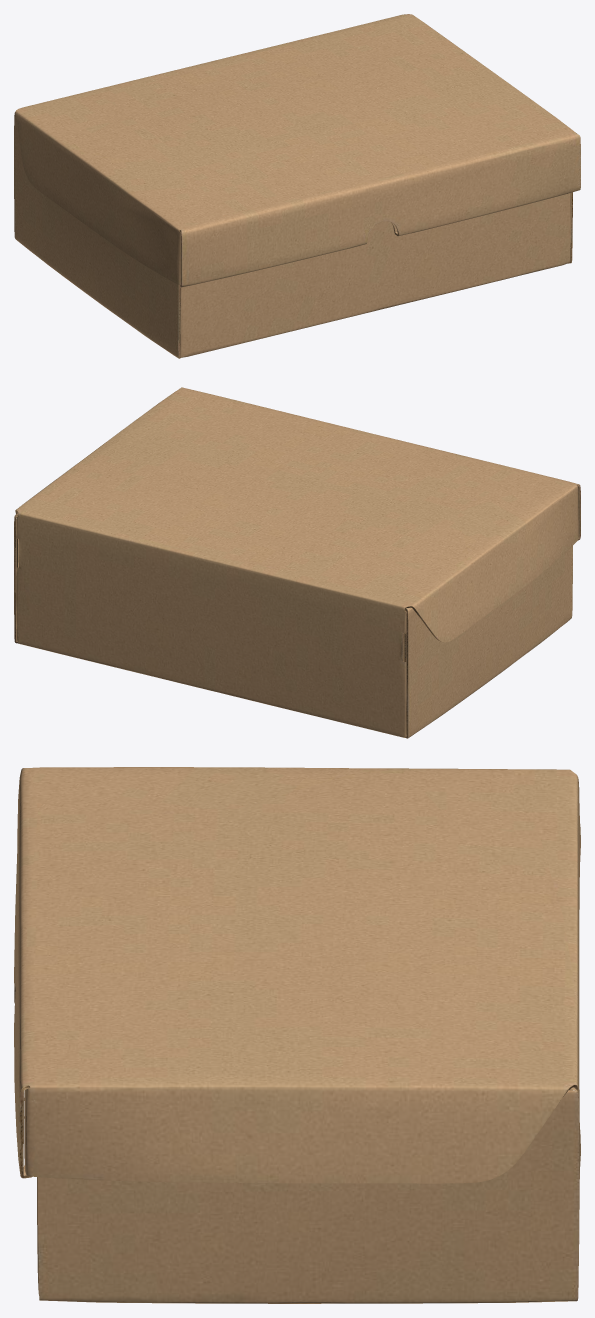
File: vattentrag_pudeko_z_pokrywka_20551091.glb
The picture shows the model from 3 angles, top to bottom: view 1: azimuth 30°, elevation 25°; view 2: azimuth 150°, elevation 25°; view 3: azimuth 270°, elevation 25°; orthographic projection. The views are drawn at different scales.
Parts seen in each view (by area): view 1: vattentrag_pudeko_z_pokrywka_20551091; view 2: vattentrag_pudeko_z_pokrywka_20551091; view 3: vattentrag_pudeko_z_pokrywka_20551091.
Boxes of the visible parts, x1,y1,x2,y2 form: vattentrag_pudeko_z_pokrywka_20551091: [14, 14, 580, 358]; vattentrag_pudeko_z_pokrywka_20551091: [14, 387, 580, 738]; vattentrag_pudeko_z_pokrywka_20551091: [14, 767, 580, 1303].
Bounding box in the file's own units: 0.3298 × 0.1033 × 0.2363.
Materials: 1 (1 with a texture image).
